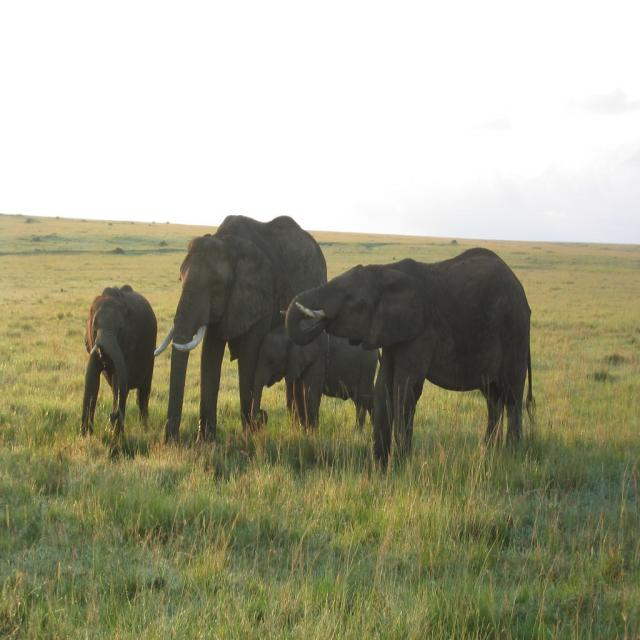elephant: (279, 241, 545, 423), (168, 214, 312, 440), (258, 328, 374, 476), (60, 290, 155, 465)
